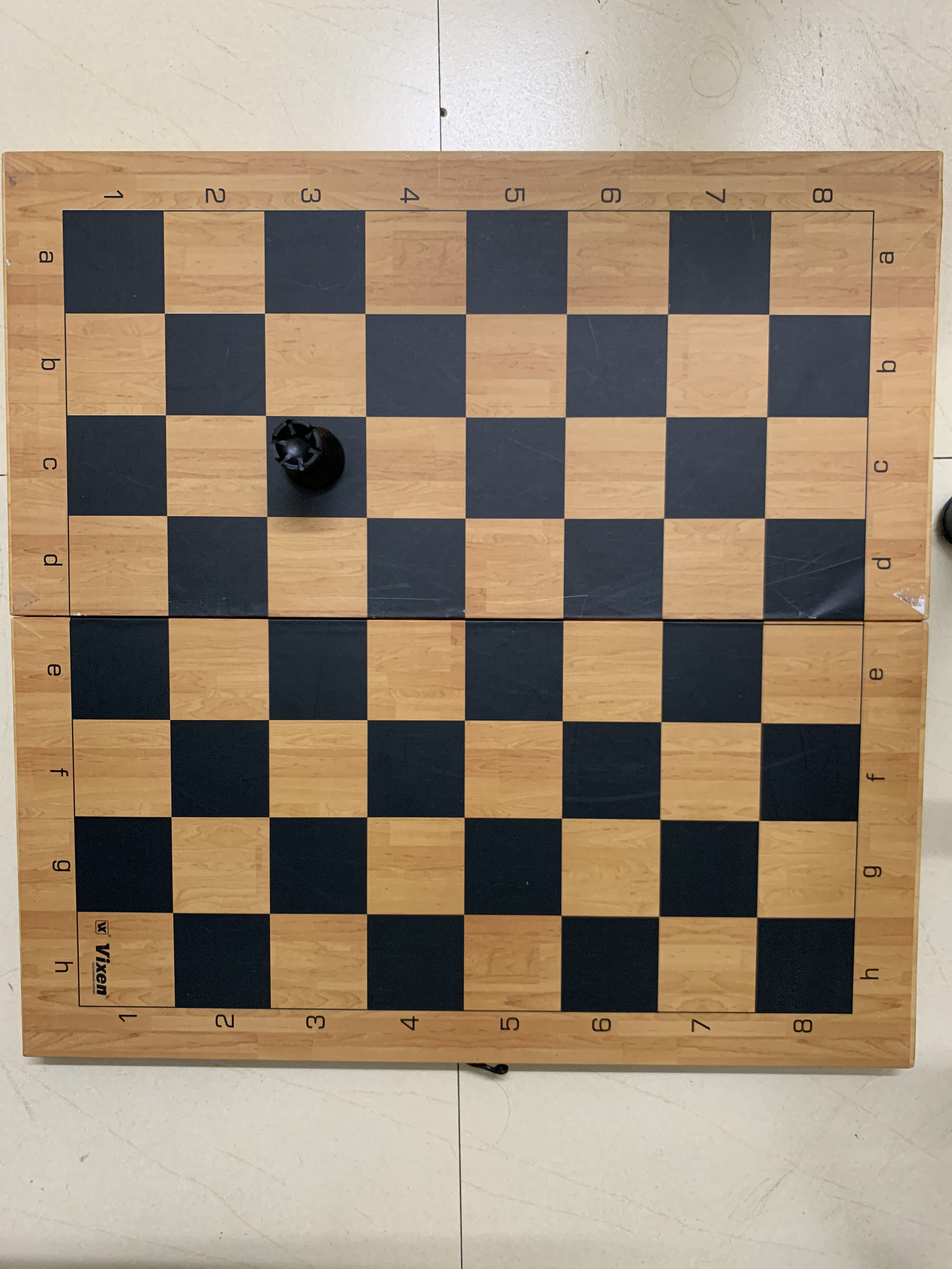black_rook: (262, 412, 367, 520)
